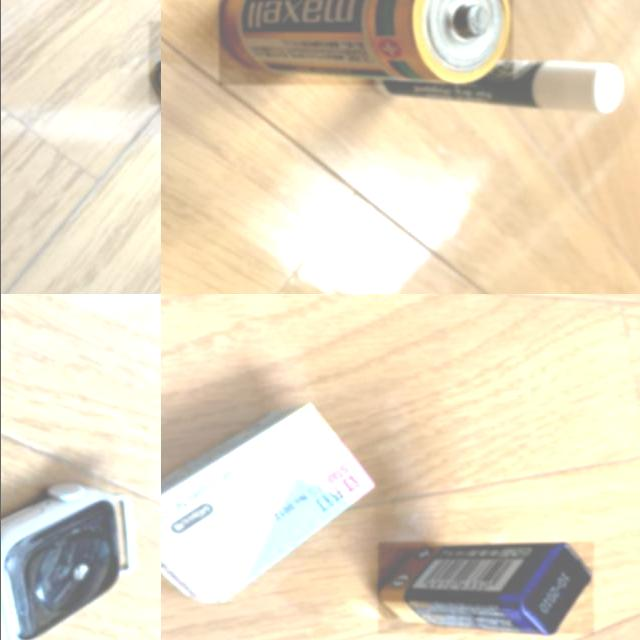9V: (377, 542, 593, 635)
